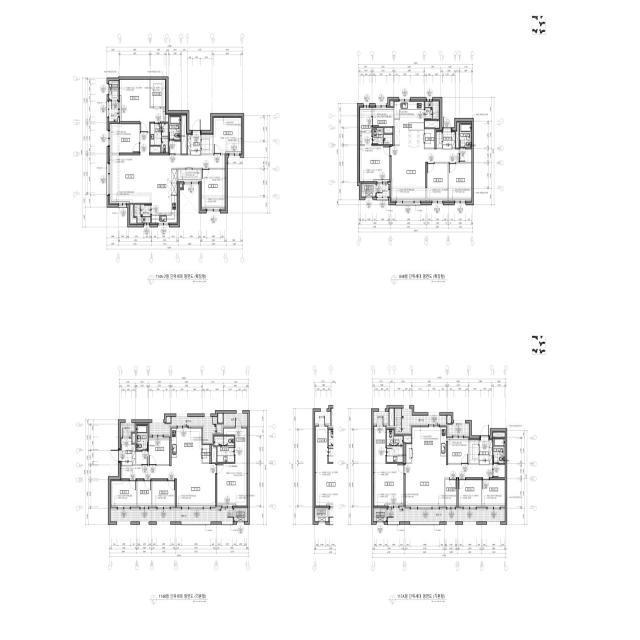space_balconi: (149, 417, 222, 445), (111, 508, 233, 522), (388, 508, 505, 522), (395, 408, 446, 432), (224, 413, 247, 427), (134, 205, 151, 223), (449, 423, 469, 435), (425, 102, 439, 119), (373, 412, 389, 426), (121, 422, 135, 437), (109, 101, 118, 122), (377, 184, 390, 197)
space_bedroom: (120, 80, 165, 132), (217, 464, 247, 506), (374, 464, 404, 506), (360, 146, 390, 181), (214, 117, 242, 153), (202, 170, 226, 209), (449, 164, 472, 201), (110, 124, 139, 153), (427, 164, 448, 201), (111, 481, 136, 507), (482, 480, 505, 507), (458, 480, 481, 507), (152, 481, 175, 507), (149, 437, 169, 464), (448, 438, 469, 463)
space_dressroom: (223, 428, 247, 464), (374, 427, 386, 464), (360, 108, 372, 145), (150, 80, 165, 107)
space_front: (121, 439, 135, 466), (479, 440, 492, 465), (188, 133, 201, 155), (443, 132, 455, 149)
space_kitchen: (394, 102, 424, 149), (152, 169, 177, 223), (412, 427, 446, 464), (171, 428, 202, 465)
space_living_room: (110, 133, 226, 203), (121, 464, 215, 507), (391, 146, 459, 201), (406, 464, 492, 507)
space_other: (372, 108, 393, 127), (137, 481, 151, 507), (445, 480, 457, 507), (178, 169, 201, 181), (469, 439, 478, 464), (202, 134, 213, 153), (182, 116, 187, 154), (425, 129, 435, 148), (169, 141, 181, 154), (136, 452, 148, 464), (493, 465, 505, 477), (460, 149, 471, 162), (203, 445, 209, 463), (130, 205, 136, 223), (425, 121, 439, 128), (436, 132, 442, 148), (406, 444, 411, 463), (456, 123, 459, 148), (212, 445, 216, 462), (390, 409, 394, 426), (493, 432, 505, 437), (404, 436, 411, 443), (218, 414, 223, 423), (384, 128, 393, 133), (447, 416, 451, 423), (132, 434, 135, 443), (166, 417, 170, 423), (166, 114, 168, 122), (390, 101, 393, 106), (180, 184, 182, 187)
space_outdoor_room: (361, 184, 376, 197), (234, 508, 247, 522), (109, 81, 118, 100), (374, 508, 387, 521)
space_toilet: (150, 124, 168, 153), (214, 436, 234, 462), (387, 430, 403, 462), (373, 128, 392, 144), (136, 425, 148, 450), (493, 438, 505, 463), (169, 116, 181, 141), (460, 124, 471, 148)
